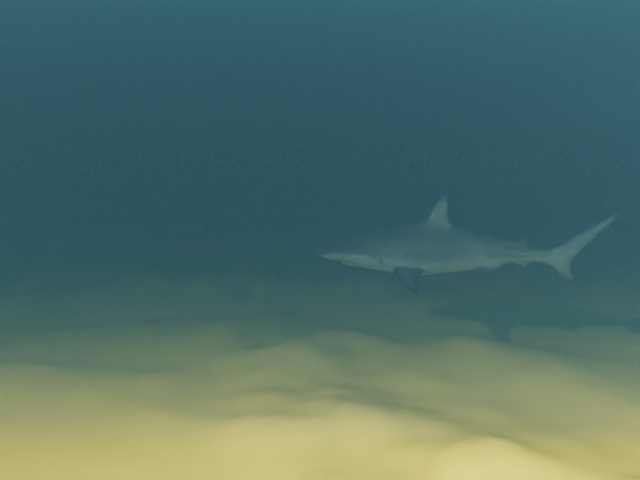Carribean Shark.001: (318, 193, 625, 294)
